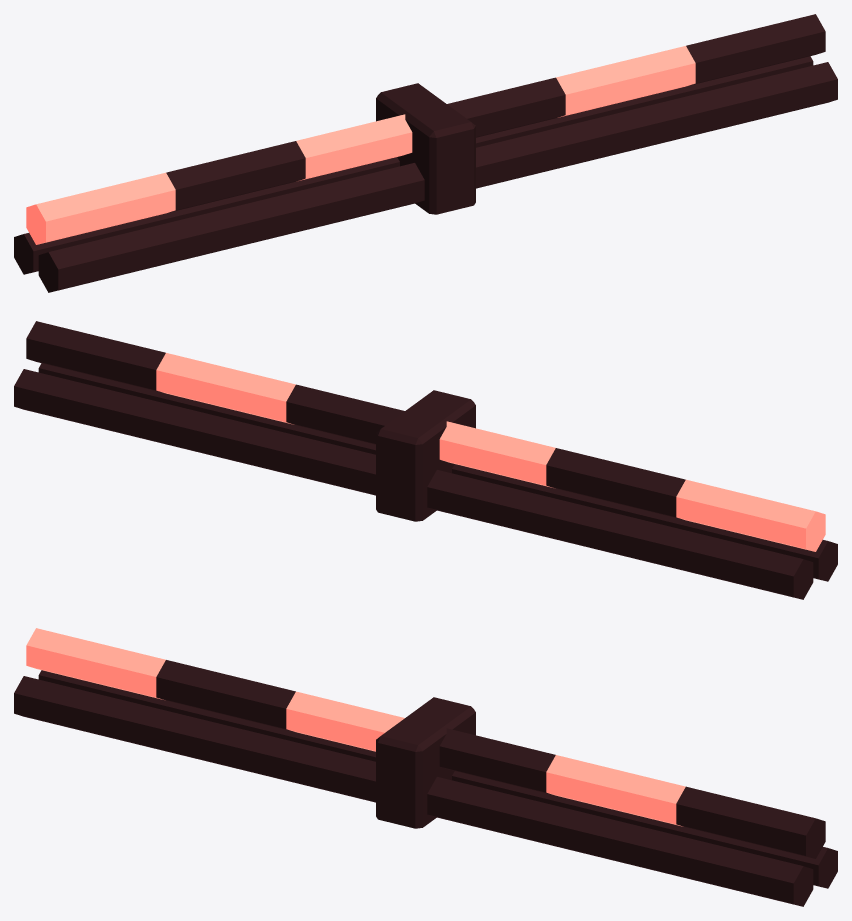
Rendered from cable_straight_nightmare.glb.
3 views of the same model, one above another, from view 1: azimuth 30°, elevation 25°; view 2: azimuth 150°, elevation 25°; view 3: azimuth 330°, elevation 25° (orthographic).
Parts seen in each view (by area): view 1: Mesh; view 2: Mesh; view 3: Mesh.
Part boxes in pixels (left/top/right/bottom): Mesh: left=14, top=14, right=837, bottom=292; Mesh: left=14, top=321, right=837, bottom=599; Mesh: left=14, top=628, right=837, bottom=906.
Size of the model in its own units: 2 by 0.2 by 0.26.
